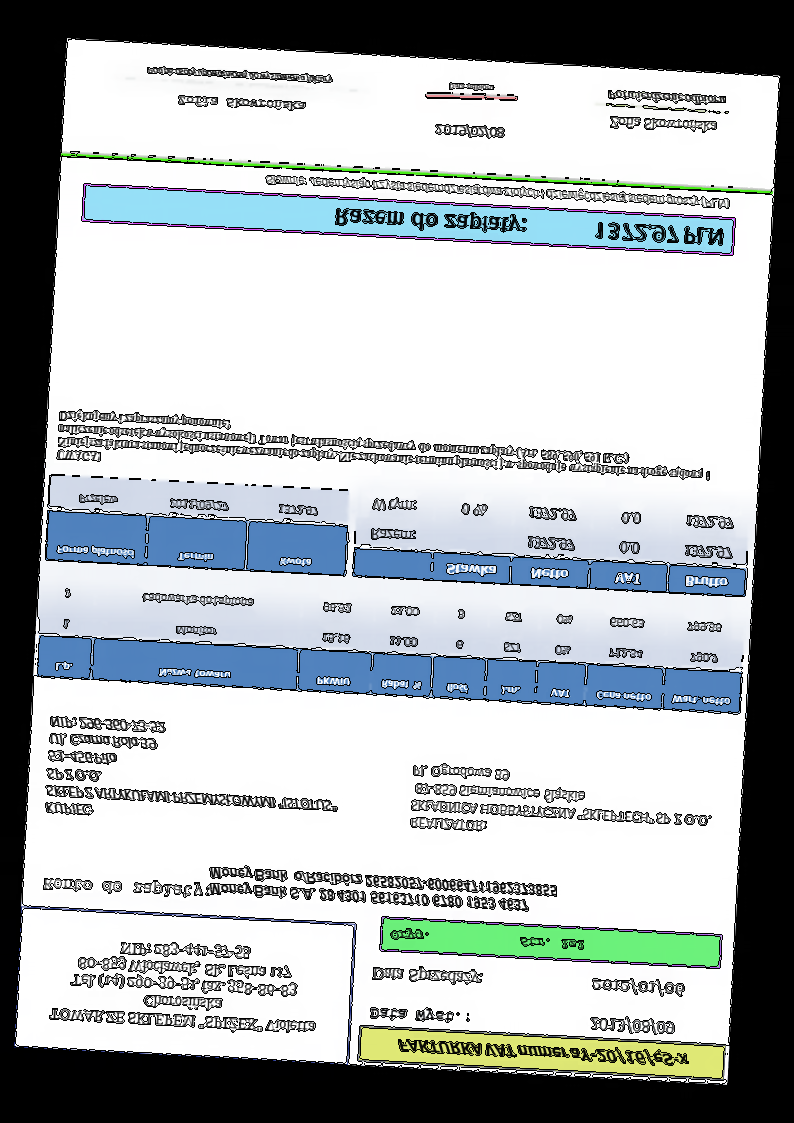Table: (35, 572, 748, 717), (351, 483, 752, 599), (44, 472, 352, 578)
TextBox: (52, 406, 717, 500), (41, 709, 345, 832), (42, 930, 325, 1040), (404, 759, 717, 849), (329, 201, 726, 255), (262, 171, 732, 214), (204, 864, 560, 916), (394, 1035, 696, 1074), (387, 926, 589, 958), (38, 872, 212, 902), (144, 65, 336, 87), (367, 963, 484, 990), (175, 93, 309, 116), (365, 1003, 474, 1030), (607, 113, 724, 137), (587, 975, 687, 1002), (587, 1013, 679, 1041), (603, 88, 729, 107), (432, 121, 508, 143), (445, 77, 497, 97)
